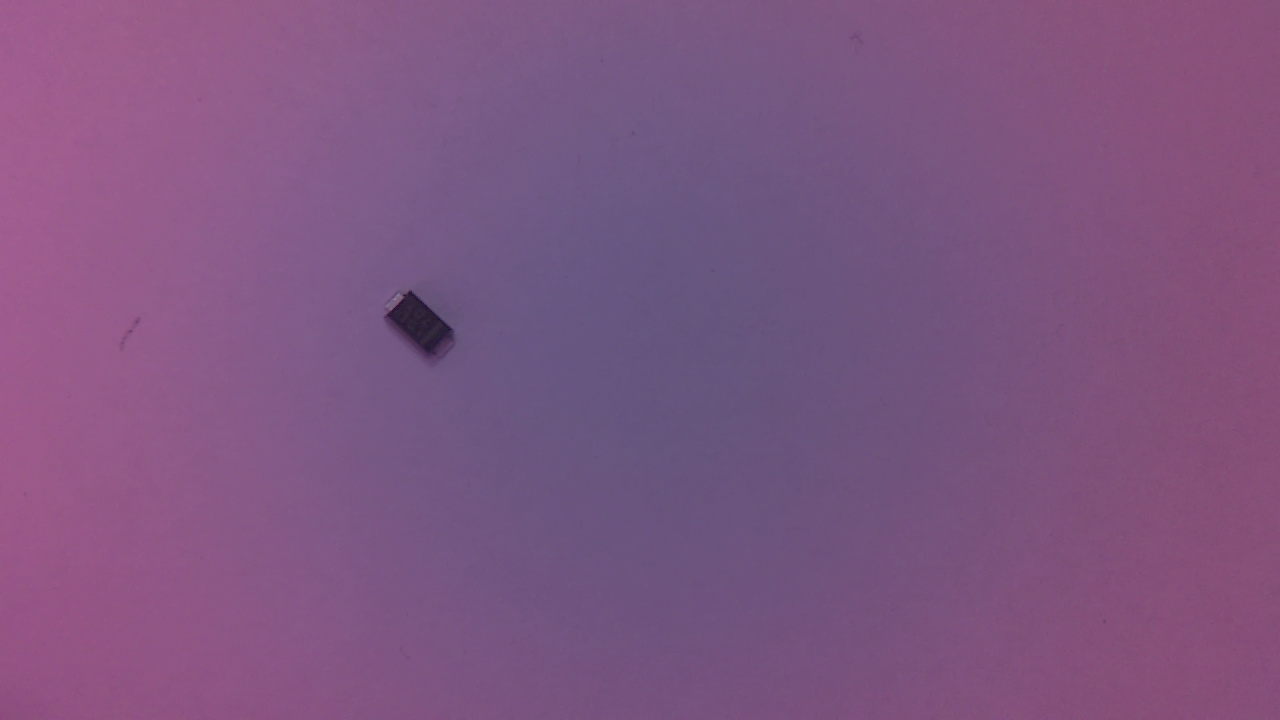Diode: (387, 294, 464, 367)
